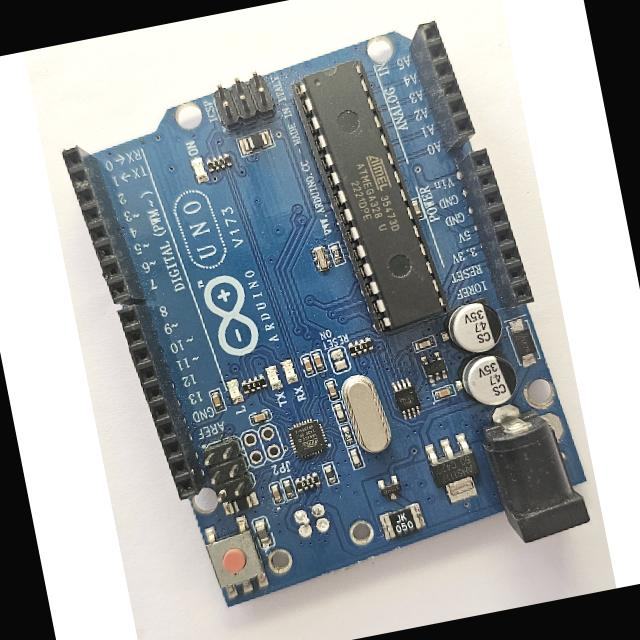missing_usb: (268, 479, 379, 578)
